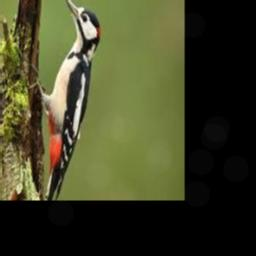Woodpecker: (27, 0, 99, 200)
